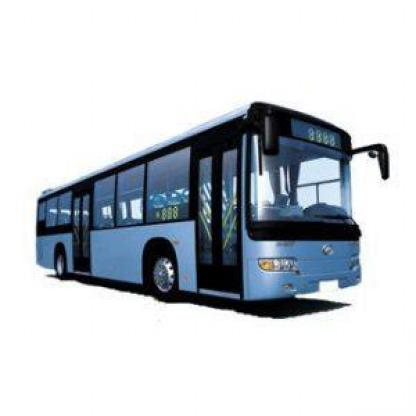Bus: (31, 105, 374, 323)
